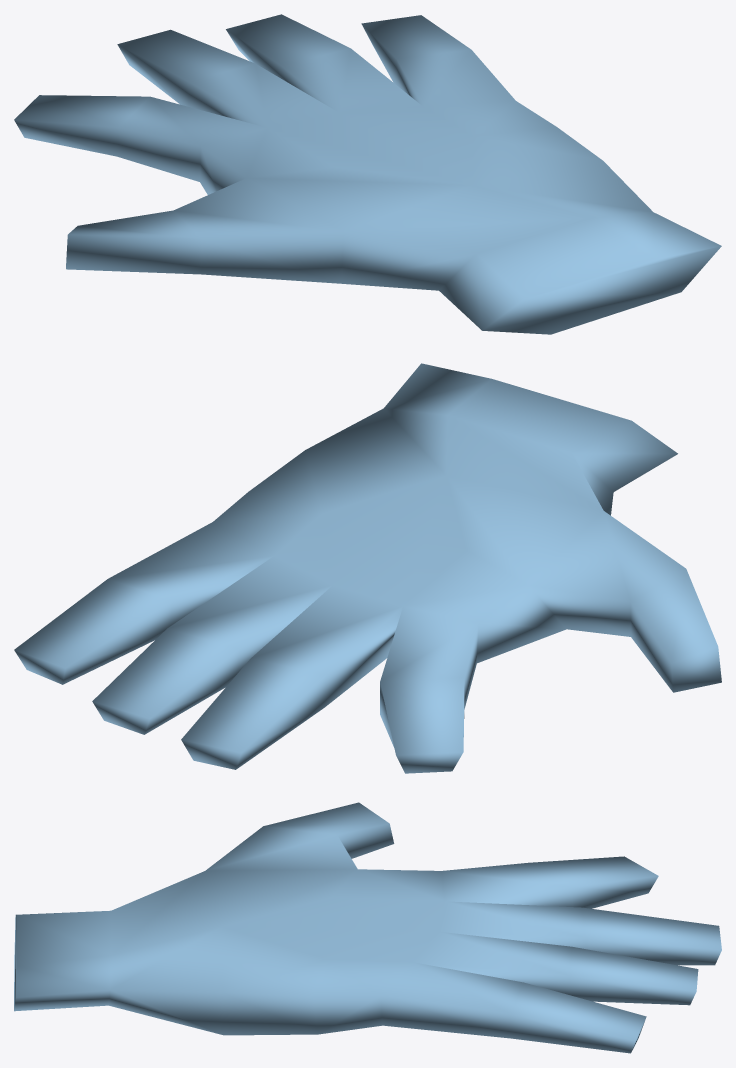
The model's file is Obj_Clue_Glove.fbx.
The picture shows the model from 3 angles, top to bottom: view 1: azimuth 30°, elevation 25°; view 2: azimuth 150°, elevation 25°; view 3: azimuth 270°, elevation 25°; orthographic projection. The views are drawn at different scales.
Visible parts, largest first — view 1: HumanMale_Body.001; view 2: HumanMale_Body.001; view 3: HumanMale_Body.001.
Part boxes in pixels (x1,y1,x2,y2): HumanMale_Body.001: (14,14,721,334); HumanMale_Body.001: (14,363,721,773); HumanMale_Body.001: (14,802,721,1053).
Bounding box in the file's own units: 48.7 × 5.44 × 64.54.
